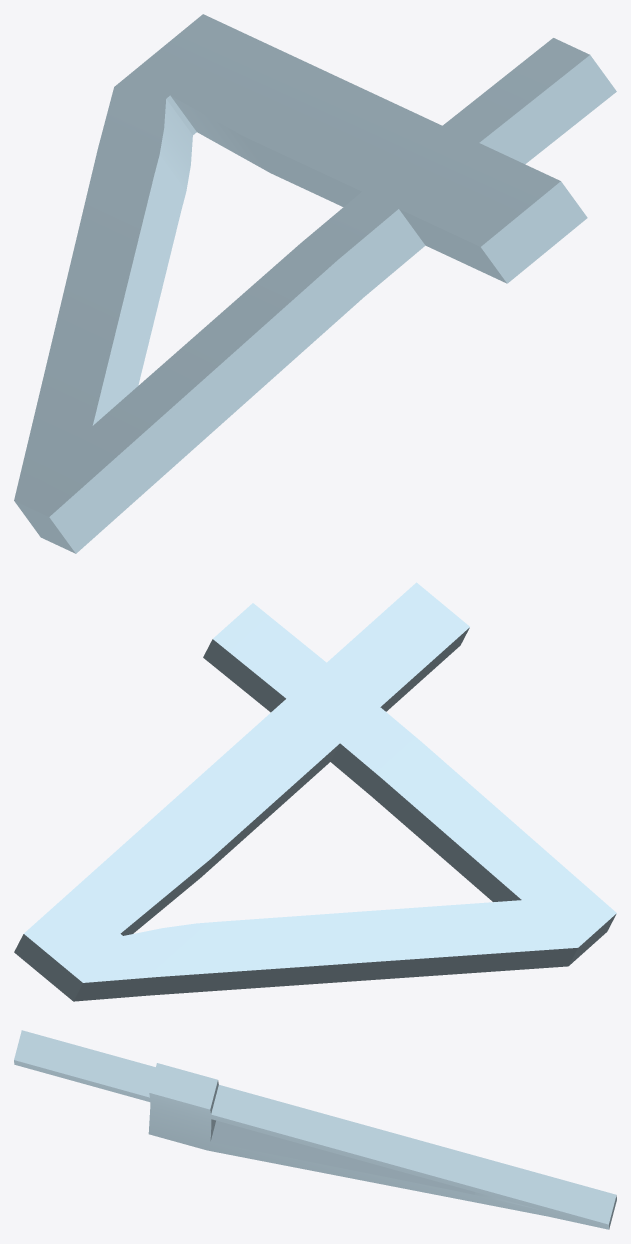
File: Number_4.gltf
3 views of the same model, one above another, from view 1: azimuth 30°, elevation 25°; view 2: azimuth 150°, elevation 25°; view 3: azimuth 270°, elevation 25° (orthographic). The views are drawn at different scales.
Parts seen in each view (by area): view 1: Sub_9_Cell_2_2_Number_4; view 2: Sub_9_Cell_2_2_Number_4; view 3: Sub_9_Cell_2_2_Number_4.
Part boxes in pixels (x1=…): Sub_9_Cell_2_2_Number_4: x1=14, y1=14, x2=616, y2=553; Sub_9_Cell_2_2_Number_4: x1=14, y1=582, x2=616, y2=1001; Sub_9_Cell_2_2_Number_4: x1=14, y1=1030, x2=616, y2=1229.
Bounding box in the file's own units: 0.0171 × 0.0111 × 0.0247.
